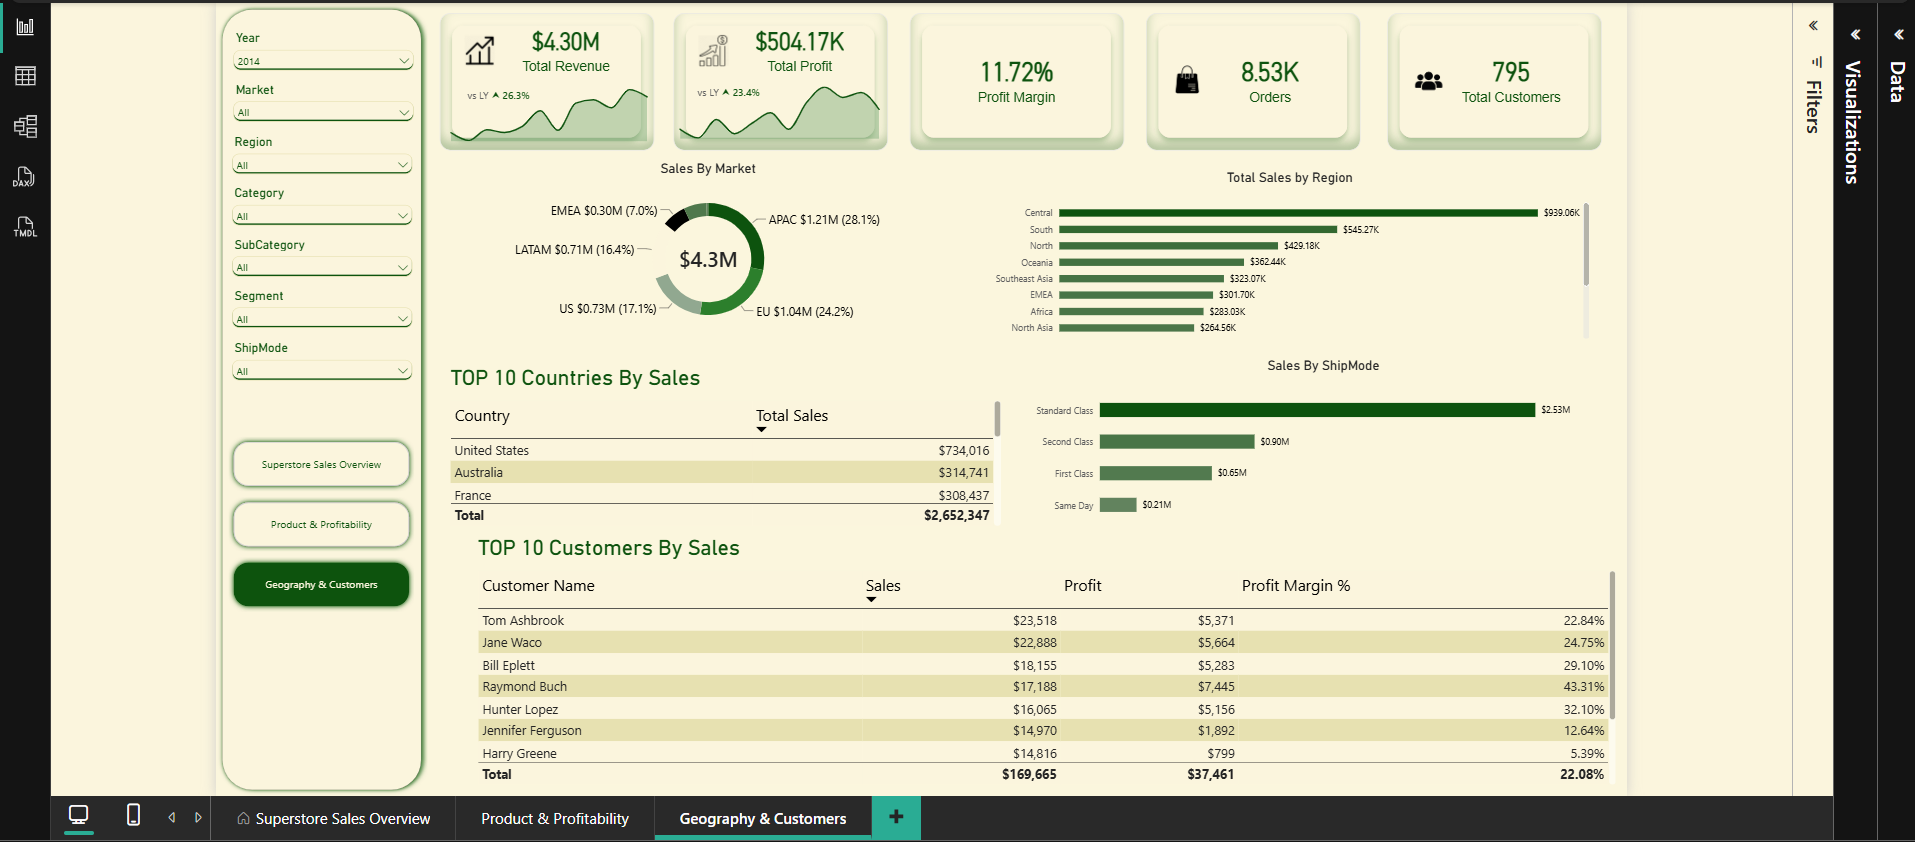

The page's visual inventory and layout, read from the dashboard file:
{"tool":"powerbi","page":{"name":"Geography & Customers","canvas":[1920,1080],"ordinal":2},"visuals":[{"type":"shape","box":[0,0,288,1079.9],"z":0},{"type":"slicer","fields":{"Values":["dw DimDate.Year"]},"box":[18,37.8,255.6,70.2],"z":1000},{"type":"slicer","fields":{"Values":["dw DimGeography.Market"]},"box":[18,108,255.6,70.2],"z":2000},{"type":"slicer","fields":{"Values":["dw DimGeography.Region"]},"box":[16.2,178.2,255.6,70.2],"z":3000},{"type":"slicer","fields":{"Values":["dw DimProduct.Category"]},"box":[16.2,248.4,255.6,70.2],"z":4000},{"type":"slicer","fields":{"Values":["dw DimProduct.SubCategory"]},"box":[16.2,318.6,255.6,70.2],"z":5000},{"type":"slicer","fields":{"Values":["dw DimCustomer.Segment"]},"box":[16.2,388.8,255.6,70.2],"z":6000},{"type":"slicer","fields":{"Values":["dw DimShipping.ShipMode"]},"box":[16.2,458.9,255.6,66.6],"z":7000},{"type":"pageNavigator","box":[17,590.4,253.5,238.2],"z":8000},{"type":"barChart","fields":{"Category":["dw DimGeography.Region"],"Y":["dw FactSales.Total Sales"]},"box":[1037.8,212.7,847.3,260.3],"z":9000},{"type":"donutChart","title":"Sales By Market","fields":{"Y":["dw FactSales.Total Sales"],"Category":["dw DimGeography.Market"]},"box":[303.5,200.6,734.3,259.9],"z":10000},{"type":"tableEx","title":"TOP 10 Countries By Sales","fields":{"Values":["dw DimGeography.Country","dw FactSales.Total Sales"]},"box":[303.5,477.9,781.4,249.4],"z":11000},{"type":"barChart","title":"Sales By ShipMode","fields":{"Category":["dw DimShipping.ShipMode"],"Y":["dw FactSales.Total Sales"]},"box":[1093.6,467.4,826.7,259.9],"z":12000},{"type":"tableEx","title":"TOP 10 Customers By Sales","fields":{"Values":["dw DimCustomer.CustomerName","Sum(dw FactSales.Sales)","Sum(dw FactSales.Profit)","dw FactSales.Profit Margin %"]},"box":[340.1,709.9,1580.8,370.5],"z":13000},{"type":"cardVisual","fields":{"Data":["dw FactSales.Total Sales"]},"box":[304.4,14.4,291.8,187.3],"z":14000},{"type":"lineChart","fields":{"Y":["dw FactSales.Total Sales"],"Category":["dw DimDate.Month"]},"box":[270.2,108.1,326,79.2],"z":15000},{"type":"cardVisual","fields":{"Data":["dw FactSales.Total Profit"]},"box":[623.2,14.4,291.8,187.3],"z":16000},{"type":"lineChart","fields":{"Y":["dw FactSales.Total Profit"],"Category":["dw DimDate.Month"]},"box":[596.5,104.7,315.2,79.2],"z":16001},{"type":"cardVisual","fields":{"Data":["dw FactSales.Profit Margin %"]},"box":[943.8,14.4,291.8,187.3],"z":16002},{"type":"cardVisual","fields":{"Data":["dw FactSales.Orders"]},"box":[1266.2,14.4,291.8,187.3],"z":16003},{"type":"cardVisual","fields":{"Data":["dw FactSales.Total Customers"]},"box":[1594,14.4,291.8,187.3],"z":16004}]}

Visuals, with their boxes on the page's 1920x1080 design canvas (x1, y1, x2, y2). These are canvas units, not pixel positions in the 1915x842 screenshot, which may show the page scaled, cropped or inside an application window:
shape: detection(0, 0, 288, 1080)
slicer - dw DimDate.Year: detection(18, 38, 274, 108)
slicer - dw DimGeography.Market: detection(18, 108, 274, 178)
slicer - dw DimGeography.Region: detection(16, 178, 272, 248)
slicer - dw DimProduct.Category: detection(16, 248, 272, 319)
slicer - dw DimProduct.SubCategory: detection(16, 319, 272, 389)
slicer - dw DimCustomer.Segment: detection(16, 389, 272, 459)
slicer - dw DimShipping.ShipMode: detection(16, 459, 272, 526)
pageNavigator: detection(17, 590, 270, 829)
barChart - dw DimGeography.Region x dw FactSales.Total Sales: detection(1038, 213, 1885, 473)
"Sales By Market" donutChart: detection(304, 201, 1038, 460)
"TOP 10 Countries By Sales" tableEx: detection(304, 478, 1085, 727)
"Sales By ShipMode" barChart: detection(1094, 467, 1920, 727)
"TOP 10 Customers By Sales" tableEx: detection(340, 710, 1921, 1080)
cardVisual - dw FactSales.Total Sales: detection(304, 14, 596, 202)
lineChart - dw FactSales.Total Sales x dw DimDate.Month: detection(270, 108, 596, 187)
cardVisual - dw FactSales.Total Profit: detection(623, 14, 915, 202)
lineChart - dw FactSales.Total Profit x dw DimDate.Month: detection(596, 105, 912, 184)
cardVisual - dw FactSales.Profit Margin %: detection(944, 14, 1236, 202)
cardVisual - dw FactSales.Orders: detection(1266, 14, 1558, 202)
cardVisual - dw FactSales.Total Customers: detection(1594, 14, 1886, 202)
